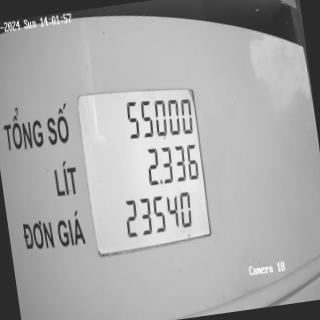screen: (70, 71, 216, 258)
